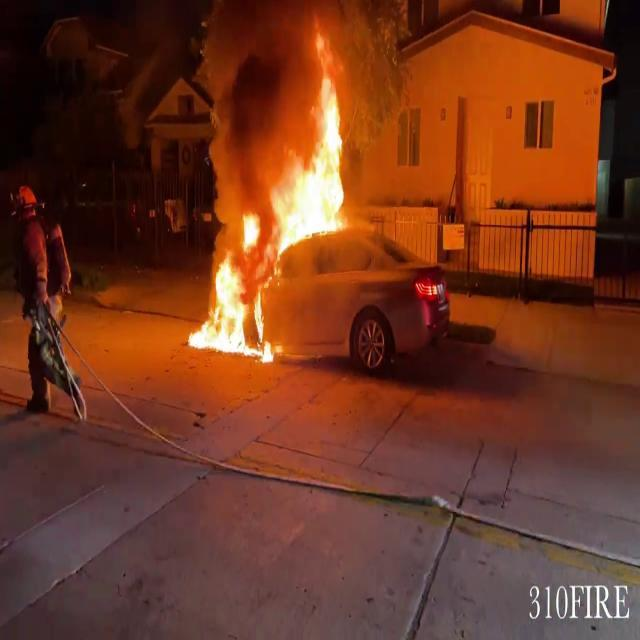Fire: (188, 42, 364, 360)
